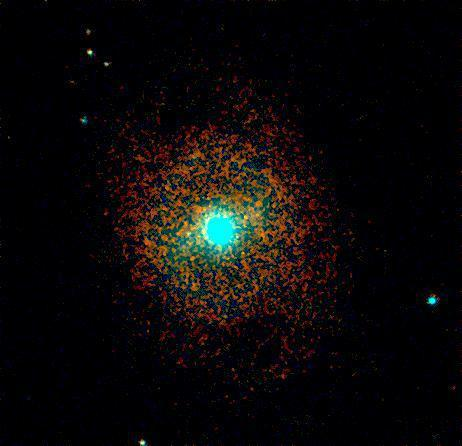star: (174, 217, 204, 247)
